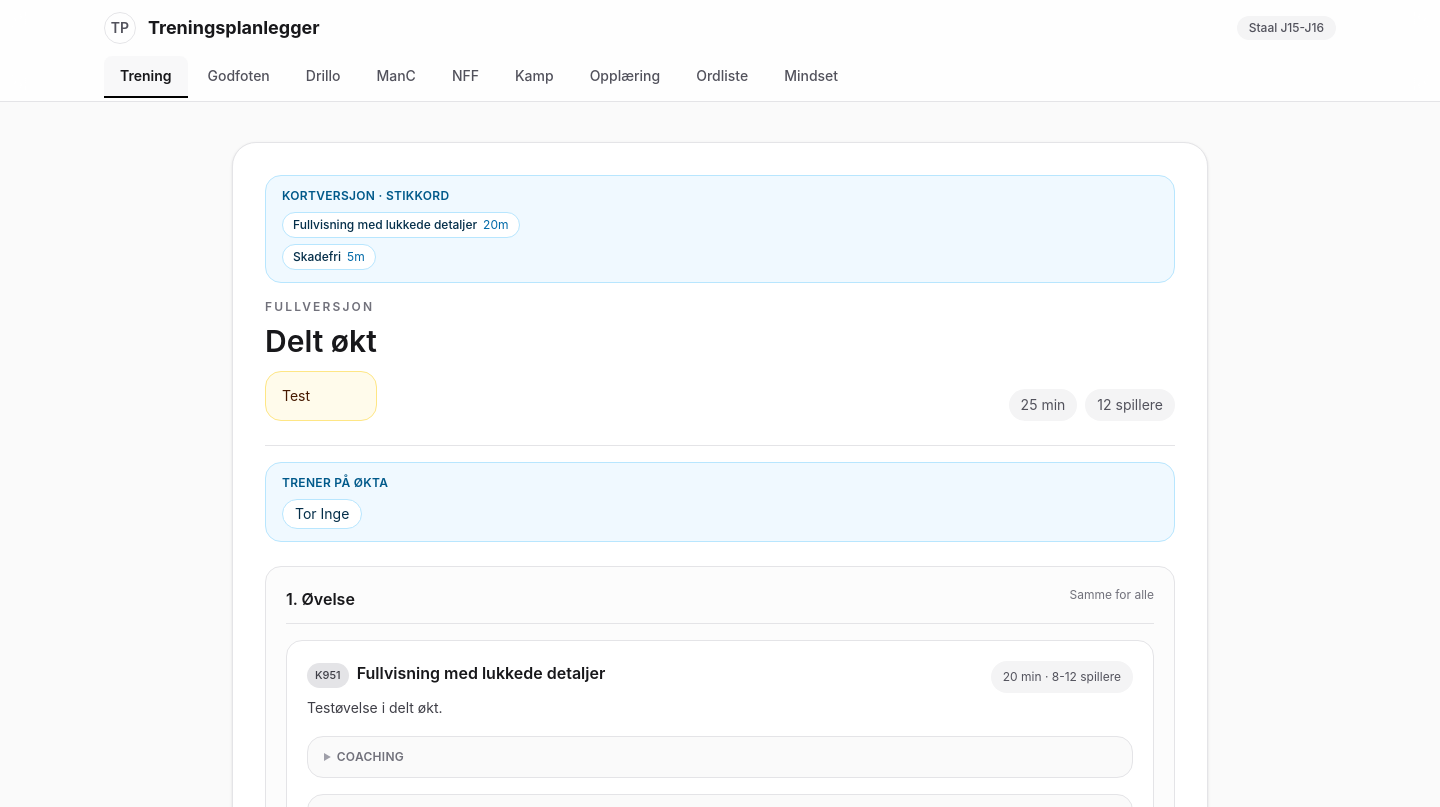
Test: SharedSessionPage › keeps coaching and variations collapsed in the full session view
This screenshot has width=1440, height=807.
Expected: the text "• Hold laget kompakt" is not shown
Expected: the text "• Spill med maks to touch" is not shown
Click the heading "Coaching". click: (370, 756)
box: [337,748,404,764]
(page scrolled)
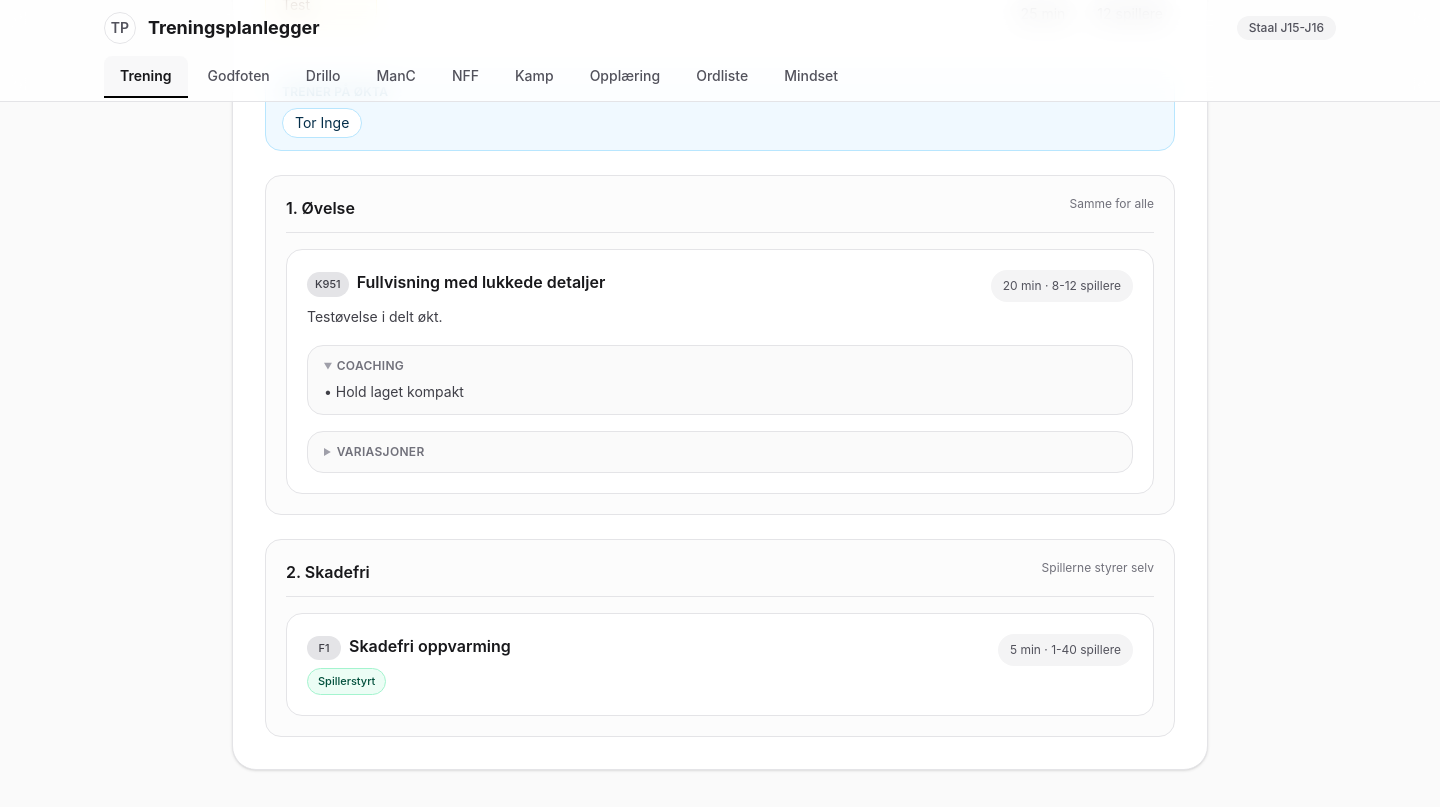
Click the heading "Variasjoner". click: (381, 451)
box: [337,444,424,458]
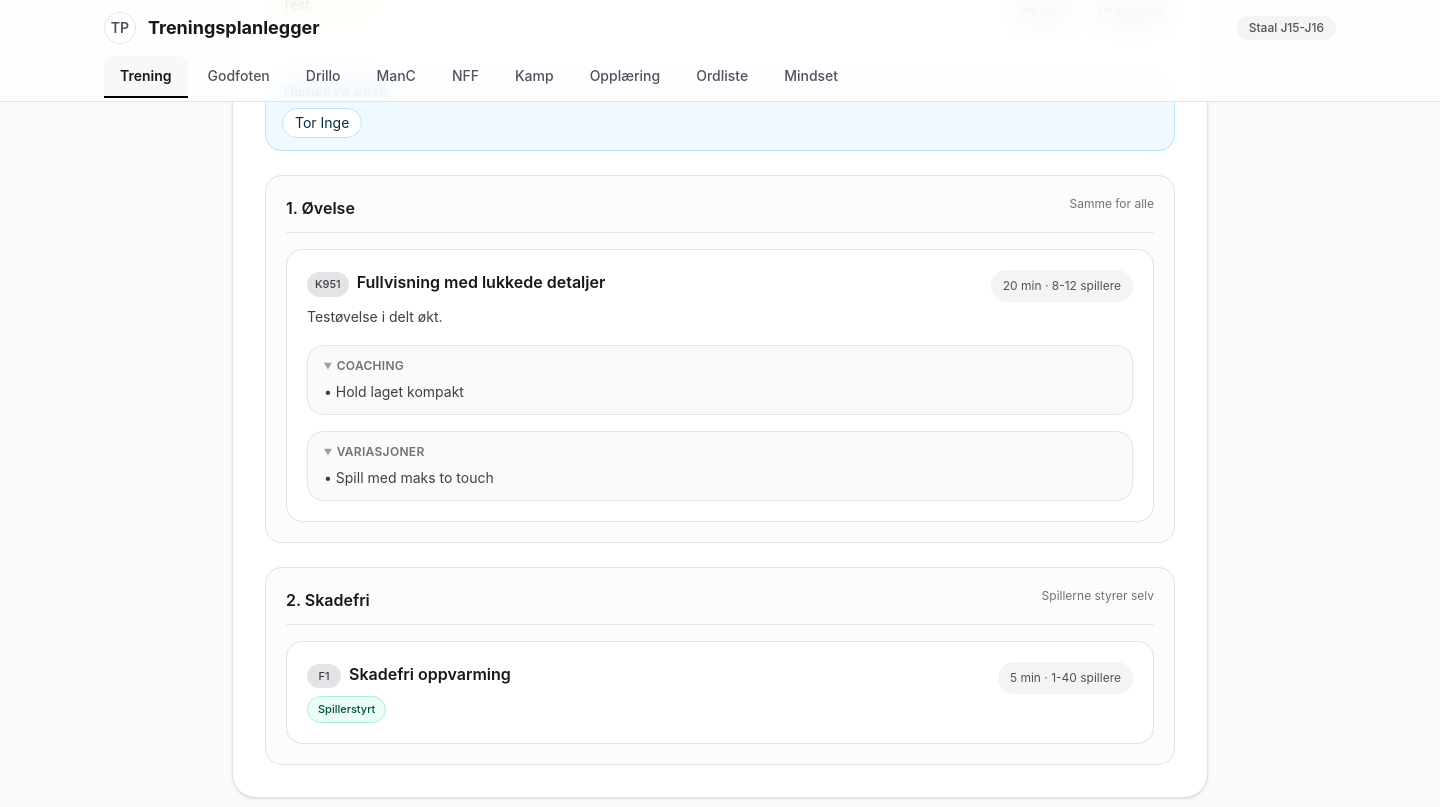
Result: the list item "• Hold laget kompakt" is shown at [324,382,464,400]
Result: the list item "• Spill med maks to touch" is shown at [324,468,494,486]
